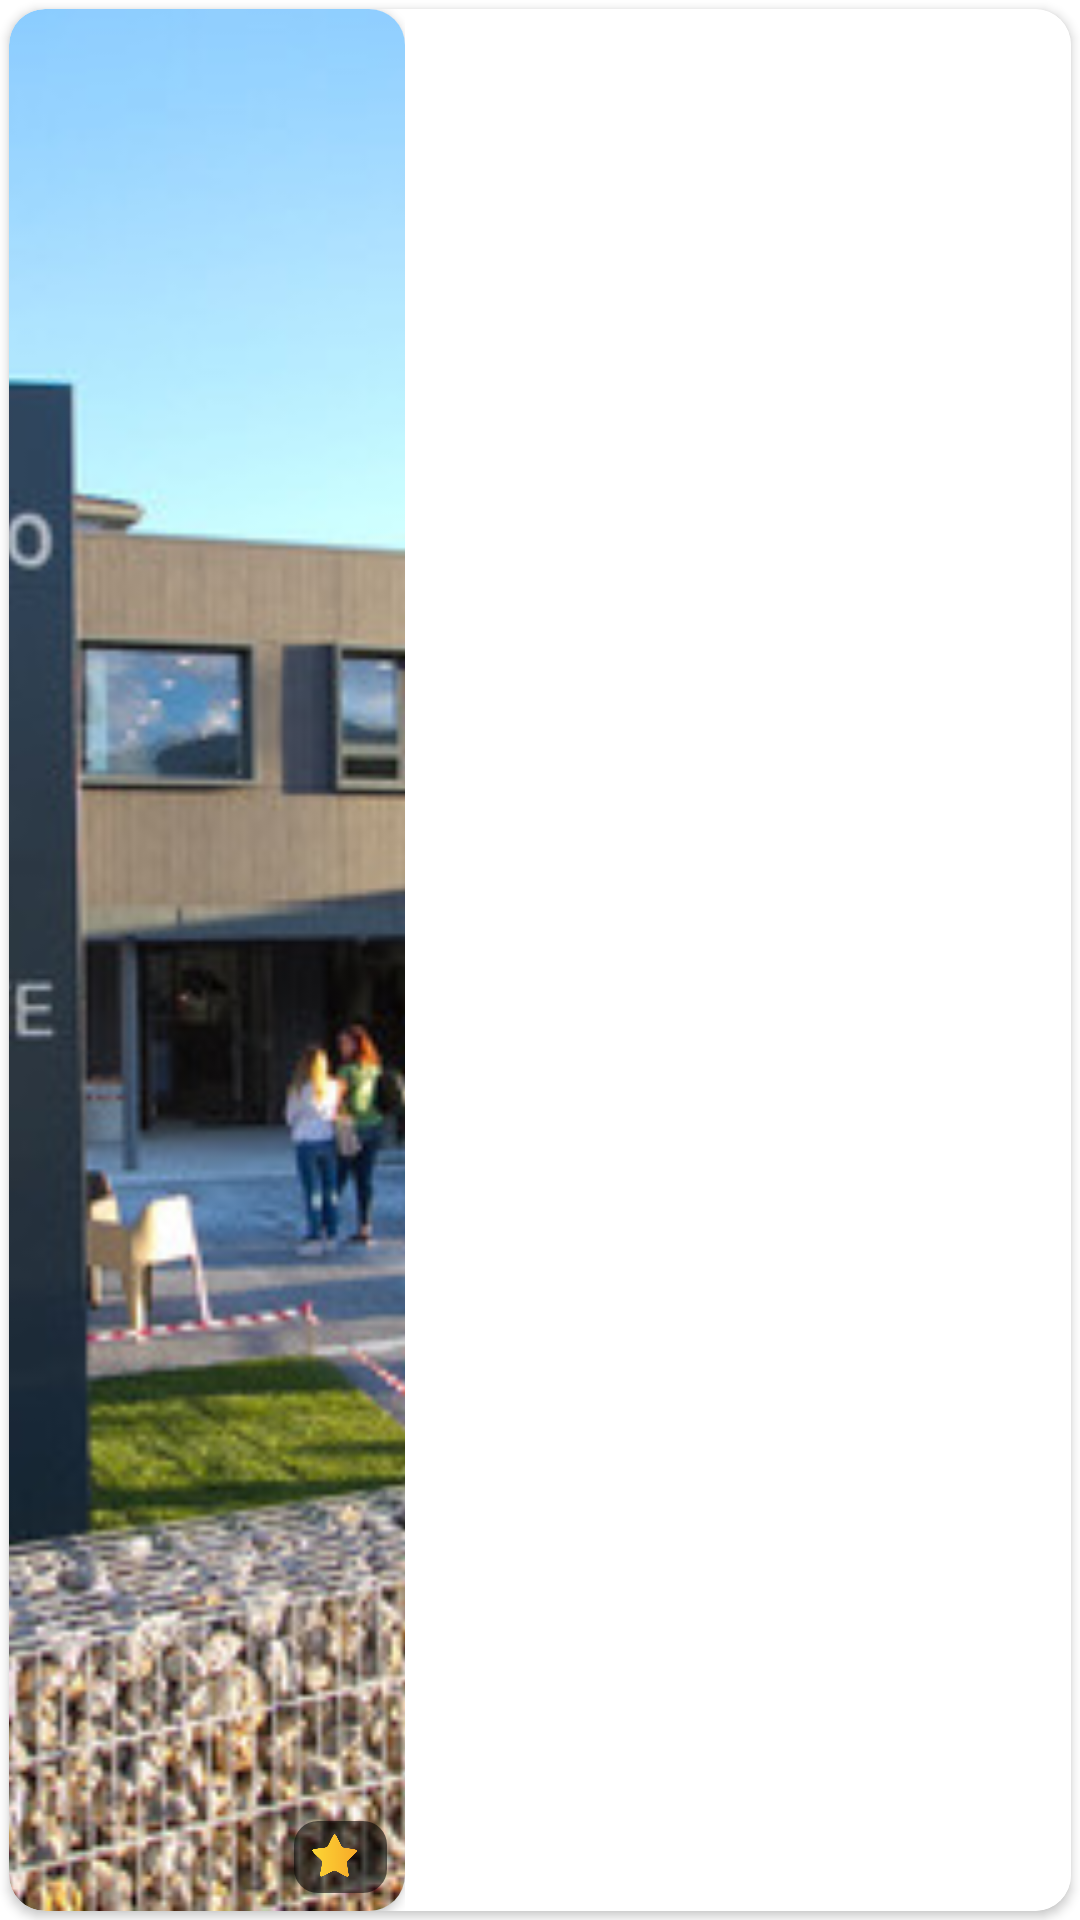

Named icons in this screenshot (1080×1920) and their bounding boxes, (x1, y1, x2, y2):
star: (312, 1834, 357, 1879)
